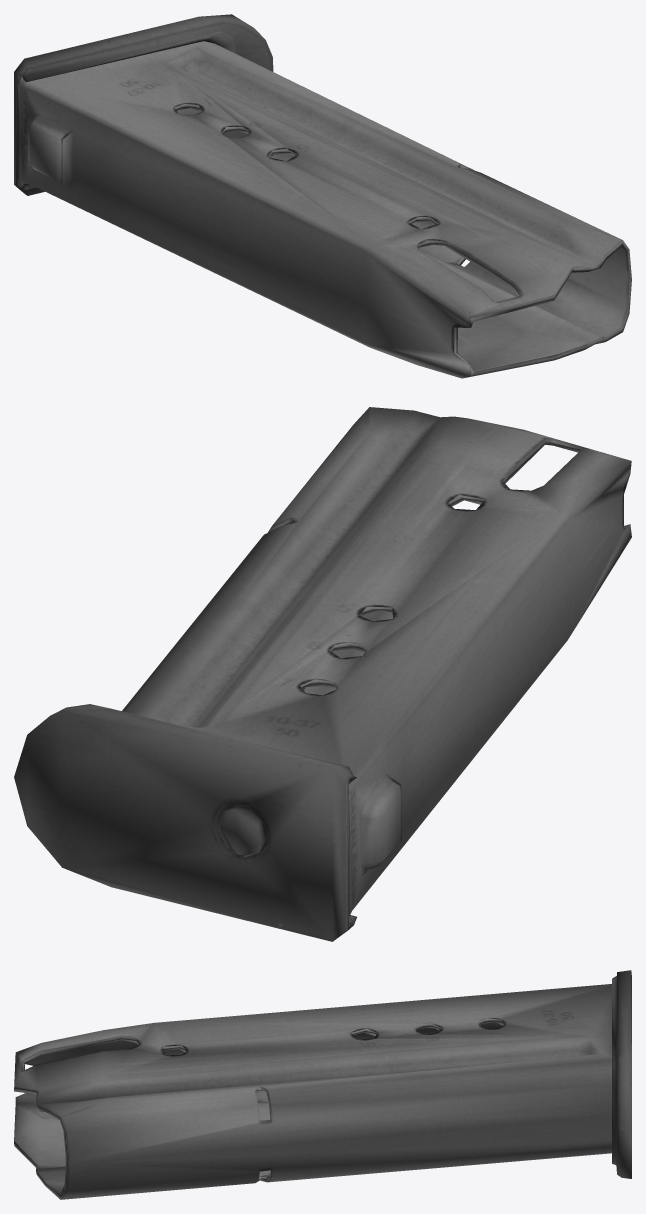
File: Mag44.fbx
3 renders of one model, top to bottom at view 1: azimuth 30°, elevation 25°; view 2: azimuth 150°, elevation 25°; view 3: azimuth 270°, elevation 25°, orthographic. The views are drawn at different scales.
Visible parts, largest first — view 1: Mag44; view 2: Mag44; view 3: Mag44.
Boxes of the visible parts, x1,y1,x2,y2 form: Mag44: (14,14,631,378); Mag44: (14,407,631,941); Mag44: (14,970,631,1199).
Bounding box in the file's own units: 0.0482 × 0.0201 × 0.0901.
